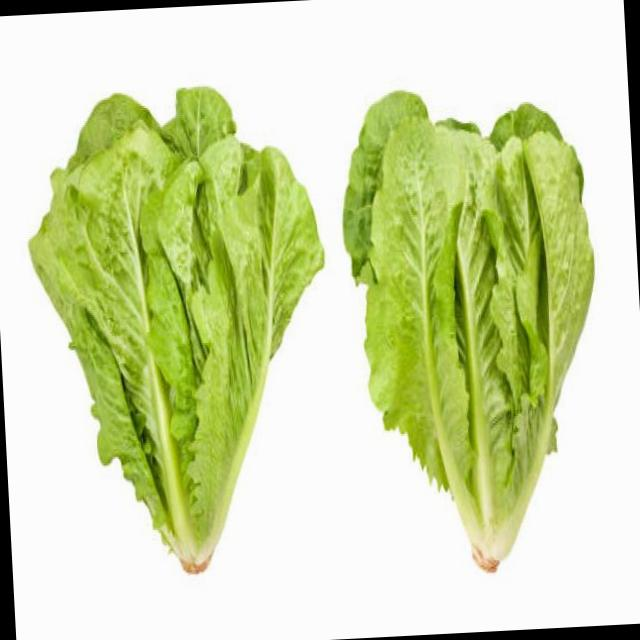Lettuce-Ready-to-Harvest: (30, 88, 323, 572), (346, 93, 593, 571)
